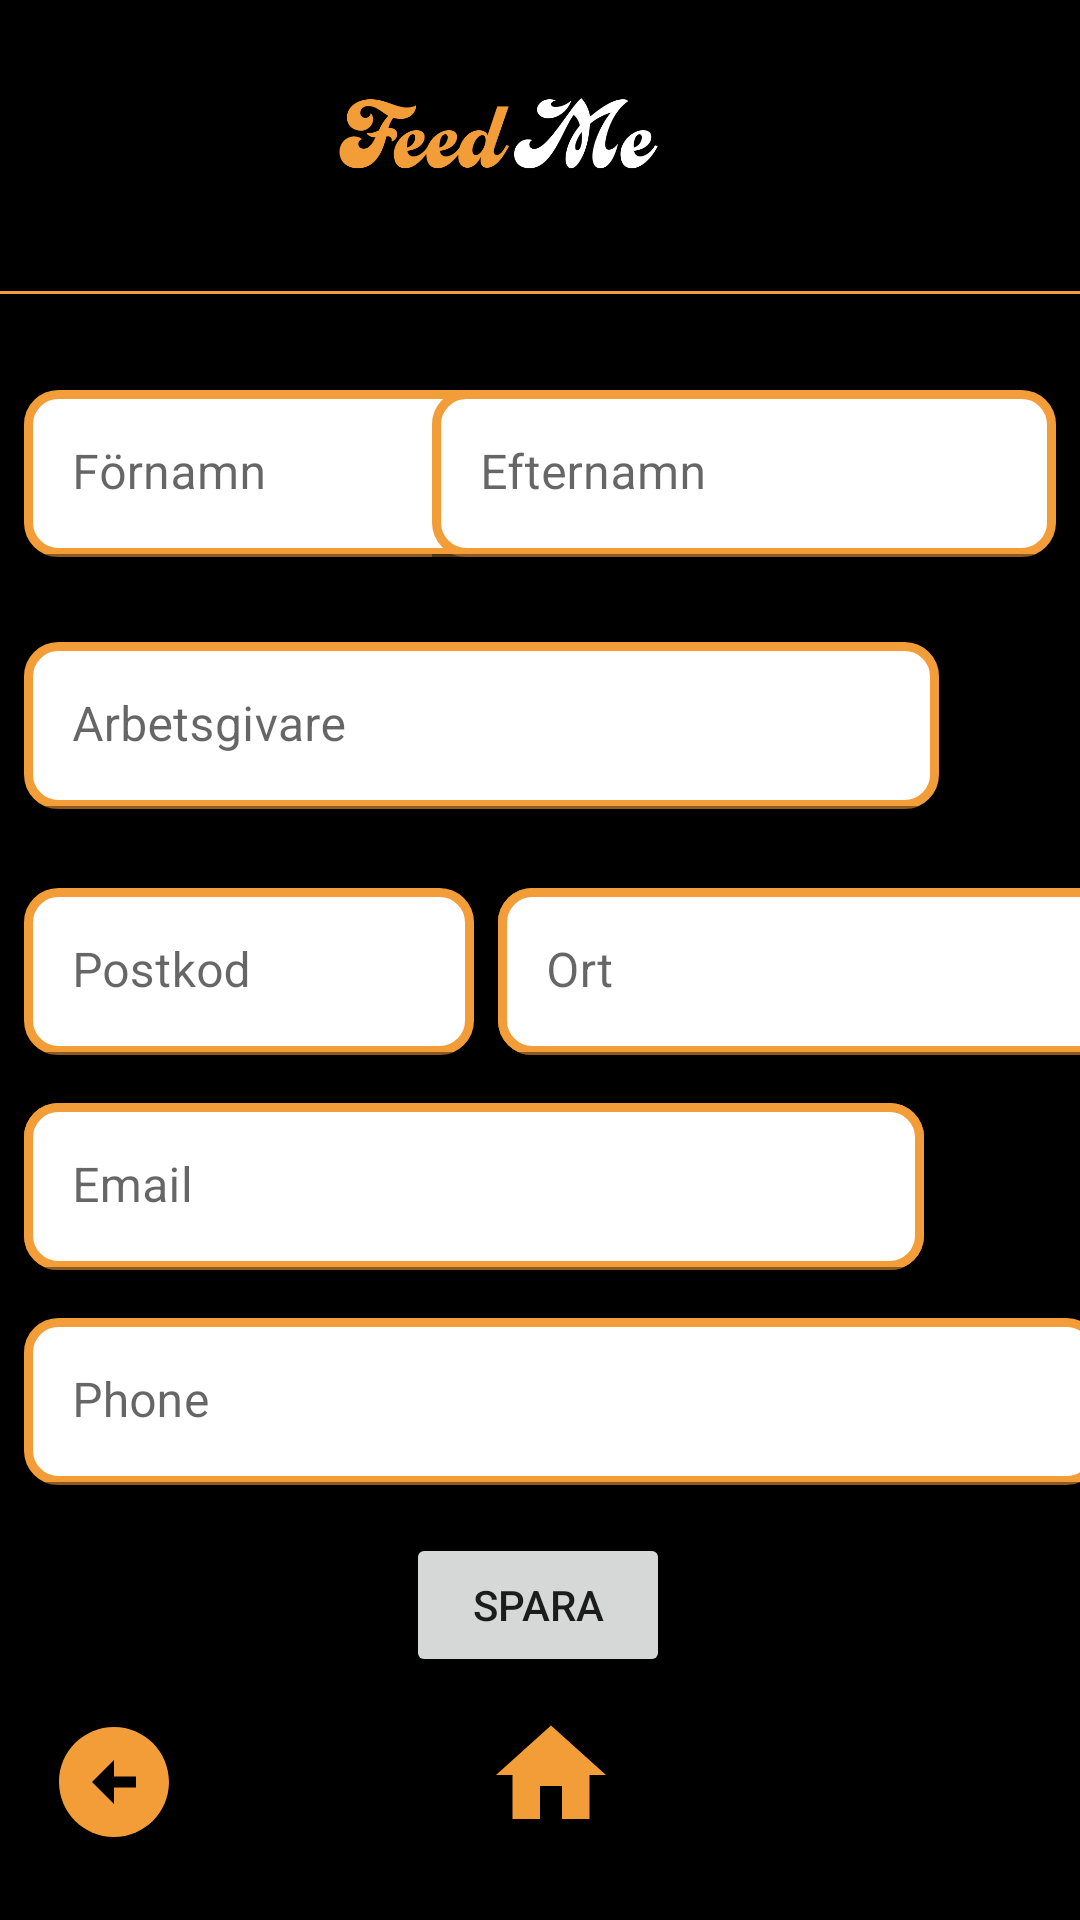

Icon click points for this 1080px×1920px phone screenshot, format (x,y):
arrow circle left: (114,1782)
home: (551,1772)
